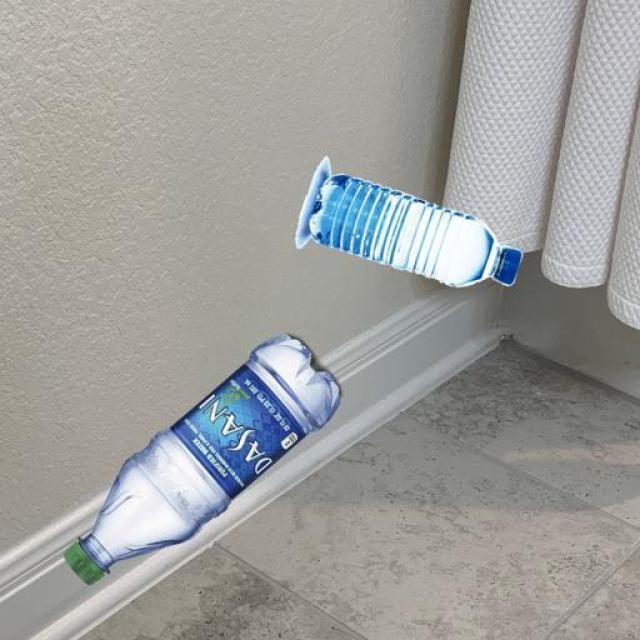bottle: (62, 331, 342, 585), (294, 154, 522, 290)
